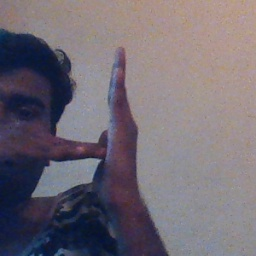Z: (48, 42, 153, 215)
